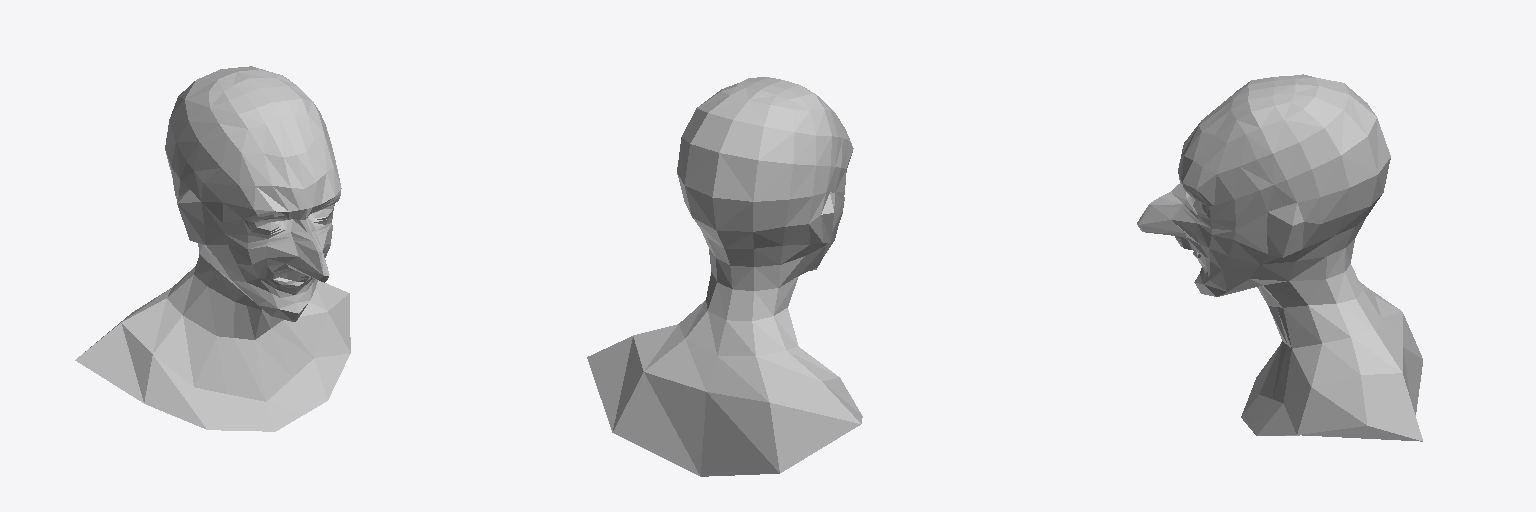
File: Bustz.OBJ
3 views of the same model, side by side, from view 1: azimuth 30°, elevation 25°; view 2: azimuth 150°, elevation 25°; view 3: azimuth 270°, elevation 25° (orthographic).
Visible parts, largest first — view 1: Bust; view 2: Bust; view 3: Bust.
Part boxes in pixels (left/top/right/bottom): Bust: left=75, top=66, right=350, bottom=431; Bust: left=587, top=77, right=862, bottom=476; Bust: left=1137, top=74, right=1422, bottom=441.
Size of the model in its own units: 7.05 by 8.41 by 6.38.